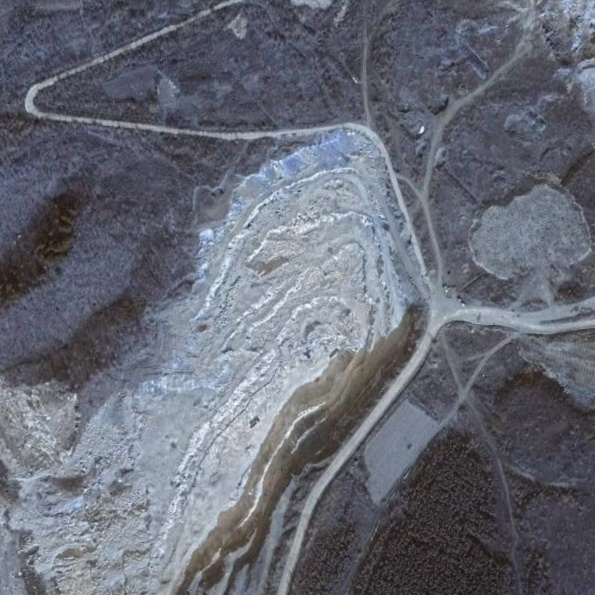slope: (0, 133, 413, 594), (466, 172, 592, 315)
